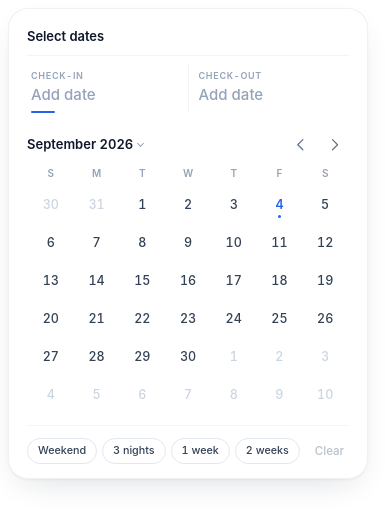
Test: DatePicker: selection › builds a range from two clicks and counts the nights
Click the 1st cell "4": (279, 204) top-left (257, 186), bottom-right (302, 222)
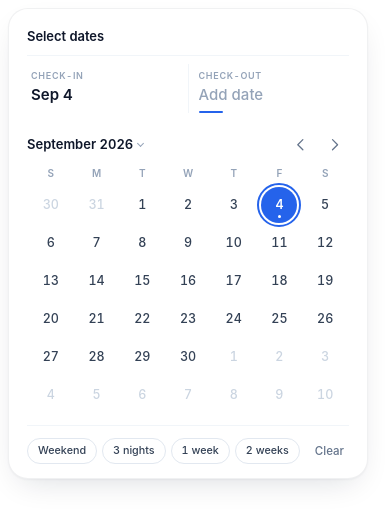
Check: the element with class "dpng" has attribute data-selecting="true"
Click the cell "11": (279, 242) top-left (257, 224), bottom-right (302, 260)
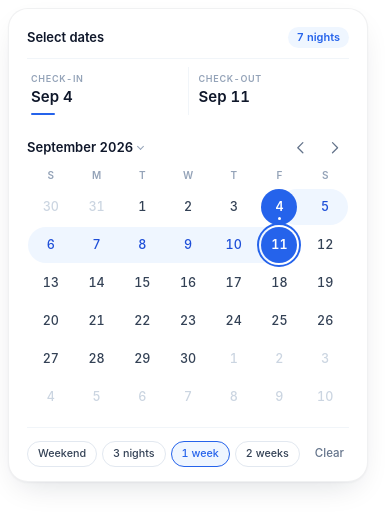
Check: the button "Check-in Sep 4" is shown, box top-left (27, 67), bottom-right (182, 115)
Check: the text with class "dpng-header__badge" reads "7 nights", box top-left (297, 30), bottom-right (340, 44)
Check: the button "Check-out Sep 11" is shown, box top-left (194, 67), bottom-right (349, 115)
